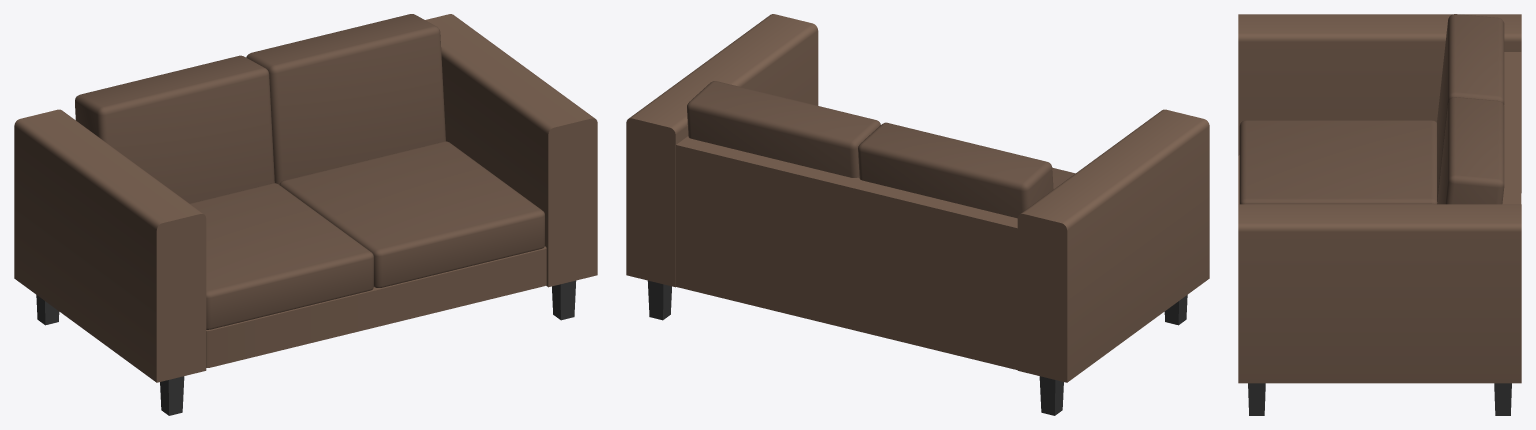
The model's file is Sofa5_C3.fbx.
3 views of the same model, side by side, from view 1: azimuth 30°, elevation 25°; view 2: azimuth 150°, elevation 25°; view 3: azimuth 270°, elevation 25° (orthographic).
Parts seen in each view (by area): view 1: Sofa5_C3; view 2: Sofa5_C3; view 3: Sofa5_C3.
Part boxes in pixels (x1,y1,x2,y2): Sofa5_C3: (14,14,597,415); Sofa5_C3: (626,14,1209,415); Sofa5_C3: (1238,14,1521,415).
Bounding box in the file's own units: 179 × 86.76 × 100.
